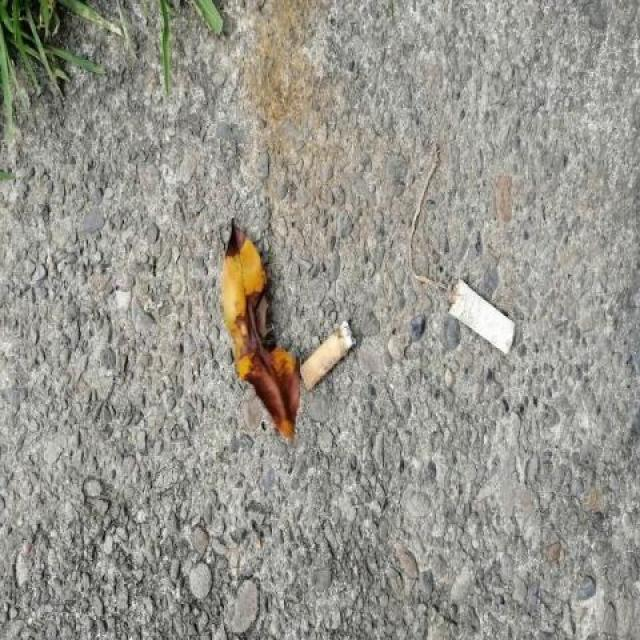non-organic waste: (445, 272, 519, 356), (297, 317, 359, 395)
